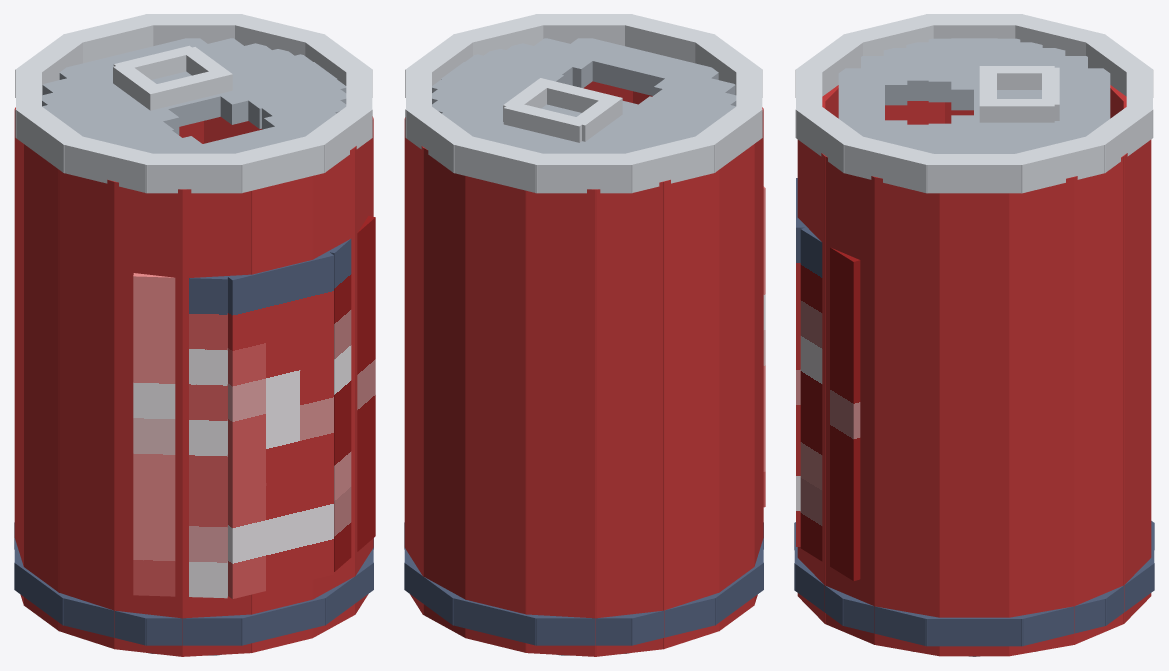
The model's file is CMU3DDrinkColaCanEmptyDrinksExtraCloud.glb.
The picture shows the model from 3 angles, left to right: view 1: azimuth 30°, elevation 25°; view 2: azimuth 150°, elevation 25°; view 3: azimuth 270°, elevation 25°; orthographic projection.
Parts seen in each view (by area): view 1: source front label tangent 1, source front label tangent 0, hollow printed aluminium body 09, hollow printed aluminium body 10, hollow printed aluminium body 08, source front label tangent 2, hollow printed aluminium body 11, hollow printed aluminium body 12, hollow printed aluminium body 13, hollow printed aluminium body 07, raised upper seam 08, raised upper seam 09 (+37 smaller); view 2: hollow printed aluminium body 05, hollow printed aluminium body 06, hollow printed aluminium body 04, hollow printed aluminium body 07, hollow printed aluminium body 03, hollow printed aluminium body 08, hollow printed aluminium body 02, hollow printed aluminium body 09, raised upper seam 04, perforated lid stripe 2.0, raised upper seam 05, raised upper seam 03 (+34 smaller); view 3: hollow printed aluminium body 00, hollow printed aluminium body 01, hollow printed aluminium body 15, hollow printed aluminium body 02, source front label tangent 2, hollow printed aluminium body 14, hollow printed aluminium body 03, hollow printed aluminium body 13, raised upper seam 00, raised upper seam 01, raised upper seam 11, rolled bottom seam 00 (+34 smaller).
Boxes of the visible parts, box(x1,y1,x2,y2) form: source front label tangent 1: box(227, 251, 333, 598); source front label tangent 0: box(133, 273, 227, 598); hollow printed aluminium body 09: box(58, 169, 115, 648); hollow printed aluminium body 10: box(114, 182, 182, 656); hollow printed aluminium body 08: box(24, 144, 59, 630); source front label tangent 2: box(328, 215, 375, 571); hollow printed aluminium body 11: box(182, 189, 252, 656); hollow printed aluminium body 12: box(251, 176, 313, 652); hollow printed aluminium body 13: box(312, 147, 355, 637); hollow printed aluminium body 07: box(14, 109, 23, 605); raised upper seam 08: box(145, 153, 242, 193); raised upper seam 09: box(229, 135, 325, 193); hollow printed aluminium body 05: box(525, 189, 596, 656); hollow printed aluminium body 06: box(595, 181, 664, 656); hollow printed aluminium body 04: box(465, 176, 526, 652); hollow printed aluminium body 07: box(663, 169, 719, 649); hollow printed aluminium body 03: box(423, 147, 465, 637); hollow printed aluminium body 08: box(719, 144, 754, 630); hollow printed aluminium body 02: box(404, 119, 423, 614); hollow printed aluminium body 09: box(754, 108, 763, 603); raised upper seam 04: box(535, 153, 632, 193); perforated lid stripe 2.0: box(534, 38, 735, 95); raised upper seam 05: box(619, 135, 715, 193); raised upper seam 03: box(453, 136, 549, 193); hollow printed aluminium body 00: box(939, 193, 1009, 656); hollow printed aluminium body 01: box(1009, 176, 1074, 656); hollow printed aluminium body 15: box(874, 177, 939, 656); hollow printed aluminium body 02: box(1074, 156, 1124, 644); source front label tangent 2: box(800, 227, 860, 581); hollow printed aluminium body 14: box(824, 156, 874, 644); hollow printed aluminium body 03: box(1123, 139, 1151, 623); hollow printed aluminium body 13: box(797, 139, 825, 623); raised upper seam 00: box(926, 154, 1022, 193); raised upper seam 01: box(1011, 135, 1105, 193); raised upper seam 11: box(843, 135, 937, 193); rolled bottom seam 00: box(925, 615, 1023, 646).
Size of what is drawn, in the model's own units: 0.2876 by 0.4425 by 0.2876.
Materials: 8 (3 with a texture image).
